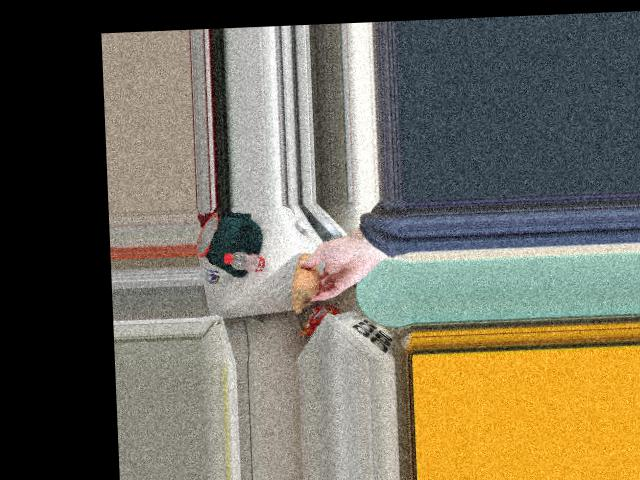sweet_potato: (290, 256, 318, 301)
